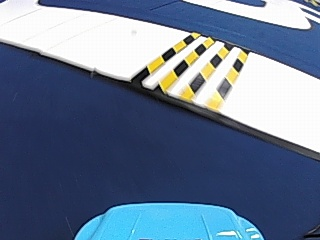bump: (133, 30, 248, 104)
